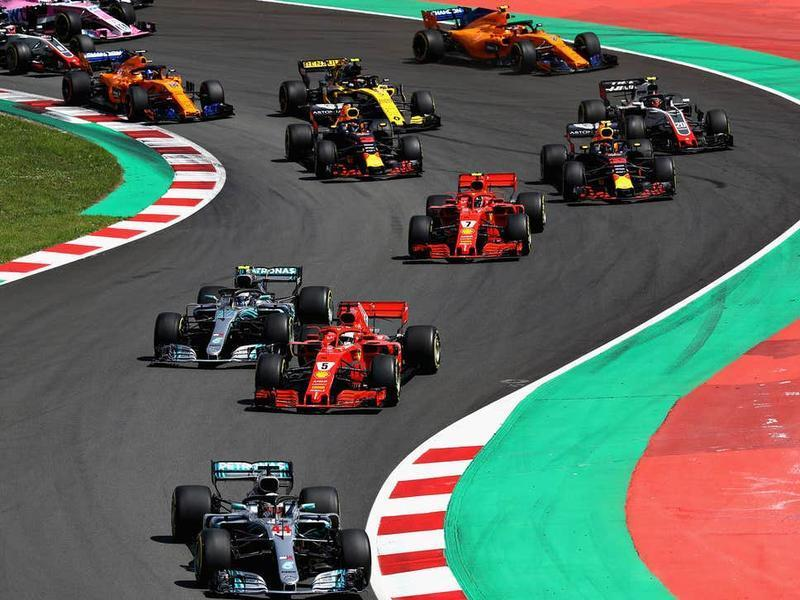f1: (161, 458, 395, 596), (258, 292, 456, 424), (158, 253, 334, 374), (584, 75, 768, 166), (401, 167, 558, 273), (411, 9, 623, 78), (284, 53, 446, 141), (55, 59, 267, 126), (530, 117, 680, 208), (283, 99, 436, 177)
